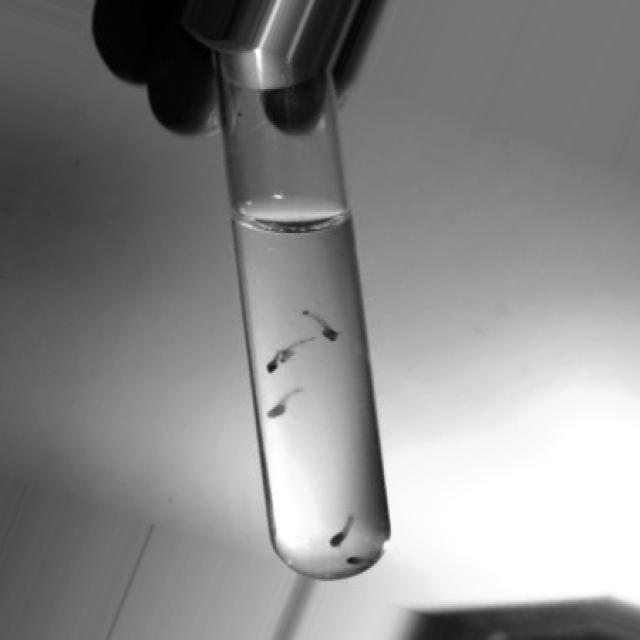larvas: (304, 311, 336, 342), (270, 386, 300, 418), (282, 335, 316, 361), (330, 516, 355, 547), (346, 557, 371, 570), (267, 351, 280, 371)
